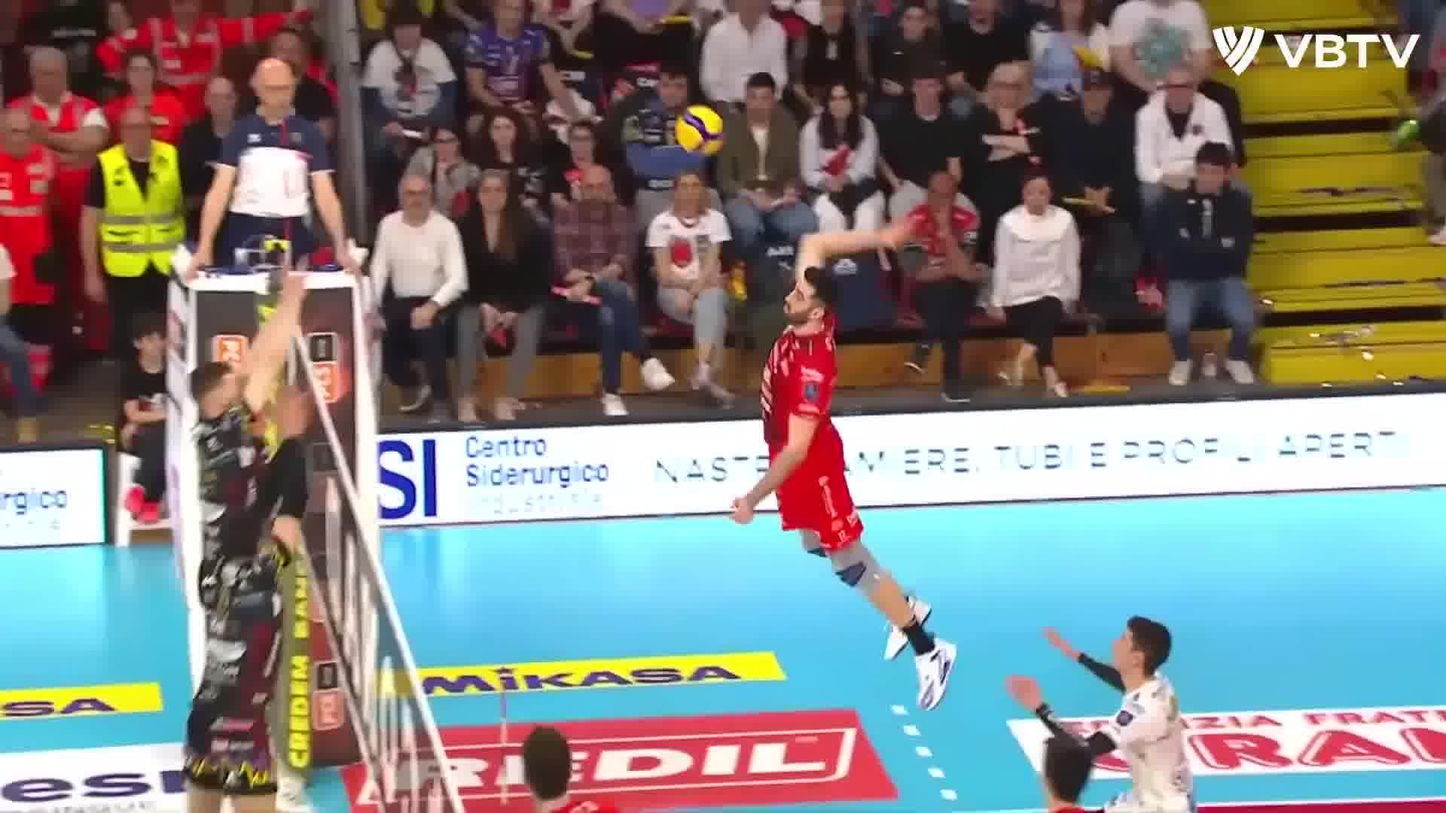balls: (673, 102, 728, 157)
